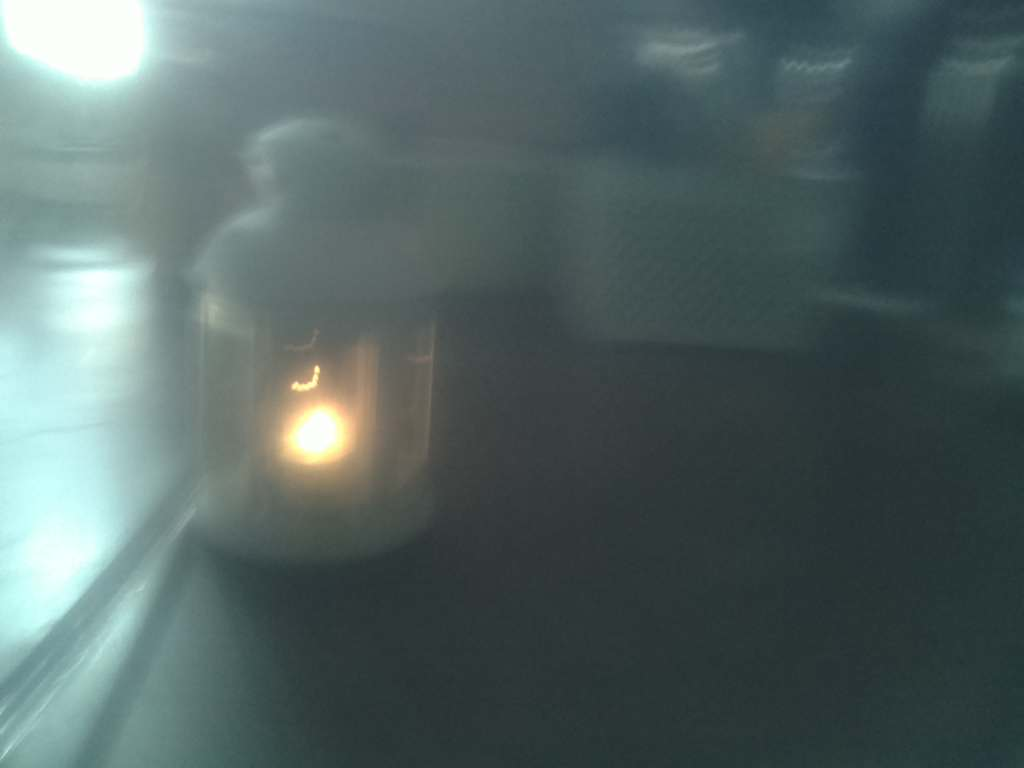fire: (270, 384, 372, 487)
